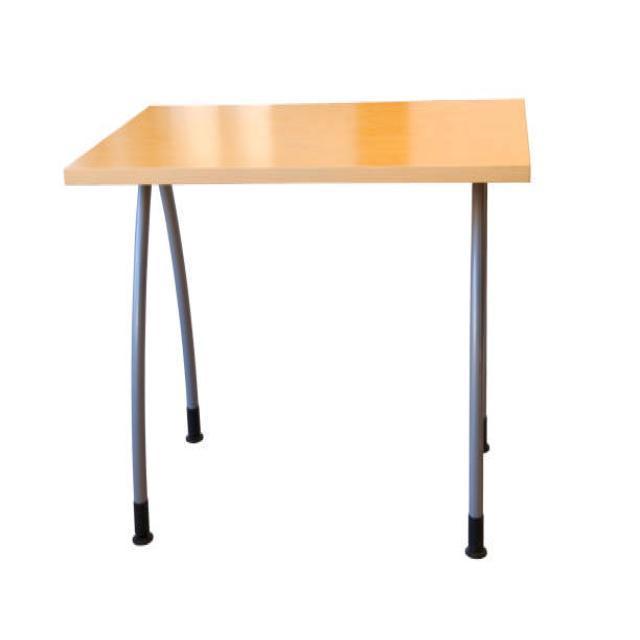table: (62, 97, 532, 557)
